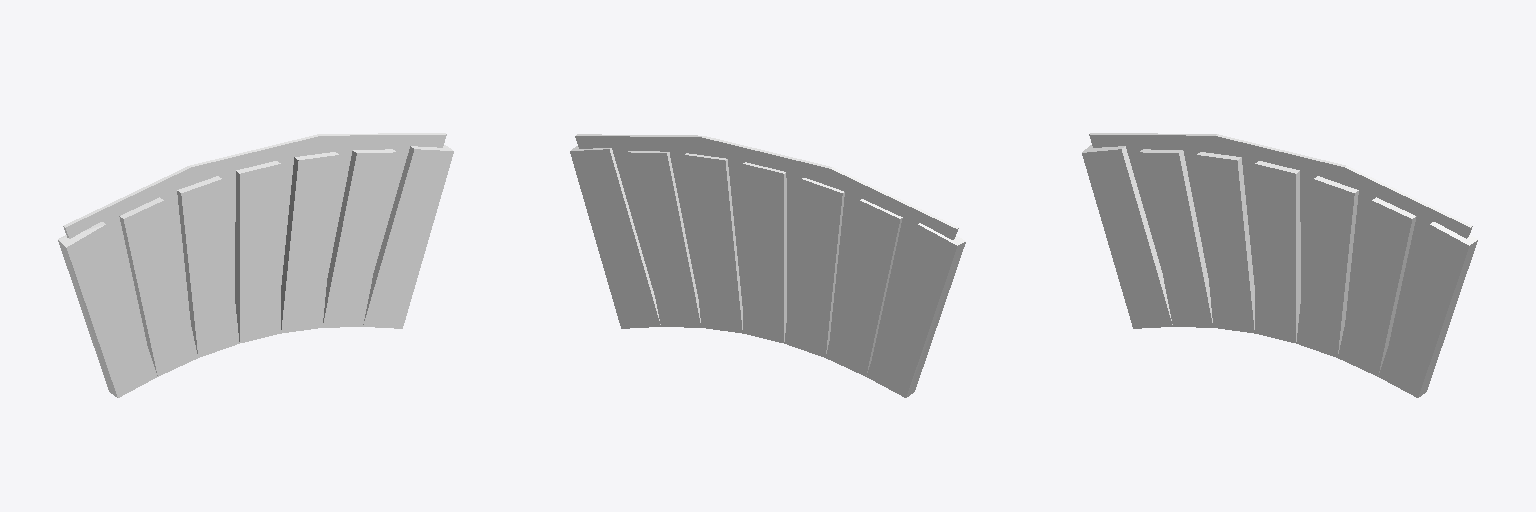
Rendered from lime_mortar_orange_clay_brick_facade_round_arch_3_middle_bottom.obj.
3 renders of one model, left to right at view 1: azimuth 30°, elevation 25°; view 2: azimuth 150°, elevation 25°; view 3: azimuth 330°, elevation 25°, orthographic.
Parts seen in each view (by area): view 1: bricks_selection, mortar_selection; view 2: bricks_selection, mortar_selection; view 3: bricks_selection, mortar_selection.
Part boxes in pixels (x1,y1,x2,y2): bricks_selection: (58,145,453,397); mortar_selection: (63,133,446,342); bricks_selection: (570,146,965,397); mortar_selection: (575,134,958,357); bricks_selection: (1082,145,1477,397); mortar_selection: (1089,133,1472,342).
Bounding box in the file's own units: 1.42 × 0.7336 × 0.0562.